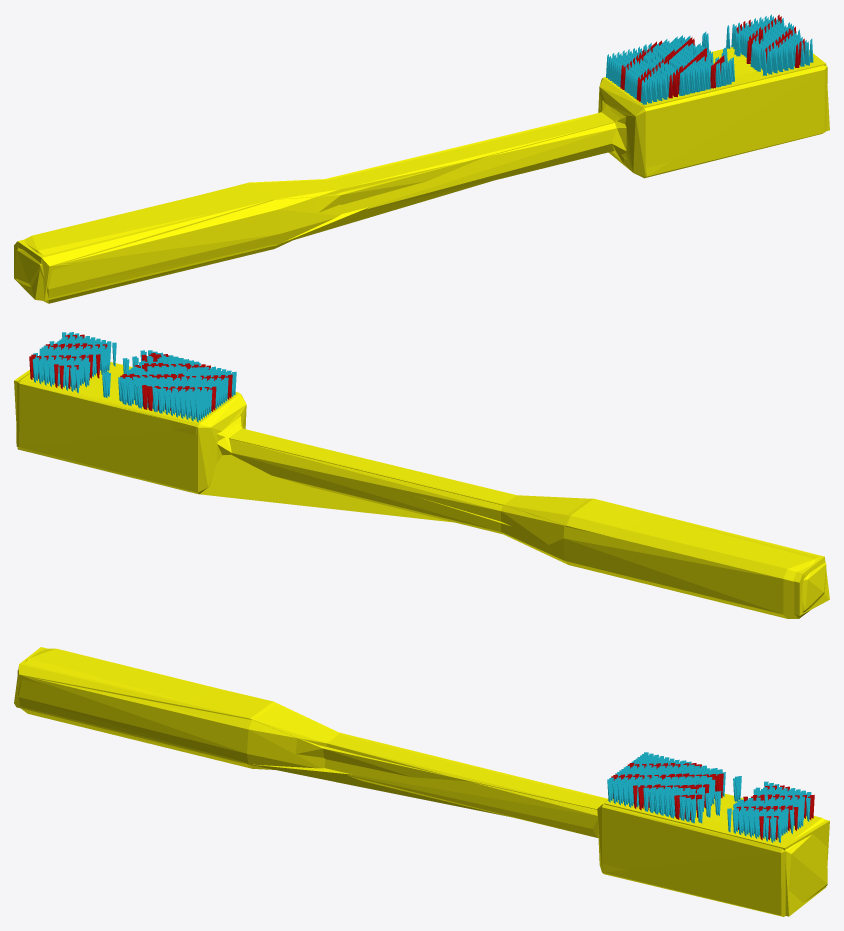
File: imp-toothbrush.glb
3 renders of one model, top to bottom at view 1: azimuth 30°, elevation 25°; view 2: azimuth 150°, elevation 25°; view 3: azimuth 330°, elevation 25°, orthographic.
Visible parts, largest first — view 1: Kerbside_metres_ground_pivot (×3); view 2: Kerbside_metres_ground_pivot (×3); view 3: Kerbside_metres_ground_pivot (×3).
Boxes of the visible parts, <box> form: Kerbside_metres_ground_pivot (×3): <box>14,14,829,303</box>; Kerbside_metres_ground_pivot (×3): <box>14,332,829,618</box>; Kerbside_metres_ground_pivot (×3): <box>14,647,829,916</box>.
Size of the model in its own units: 0.19 by 0.0219 by 0.0186.
